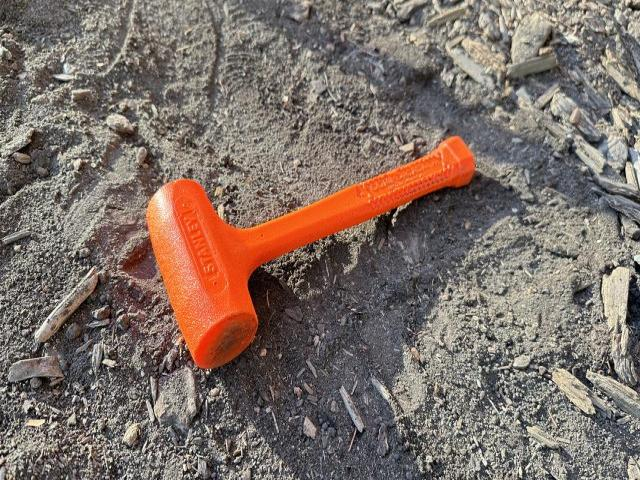hammer: (141, 138, 474, 371)
